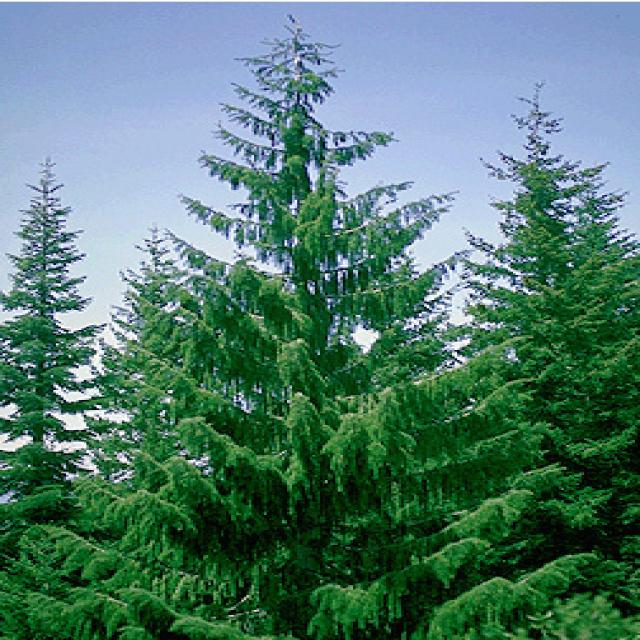Picea breweriana: (116, 16, 518, 640), (0, 153, 110, 519)
